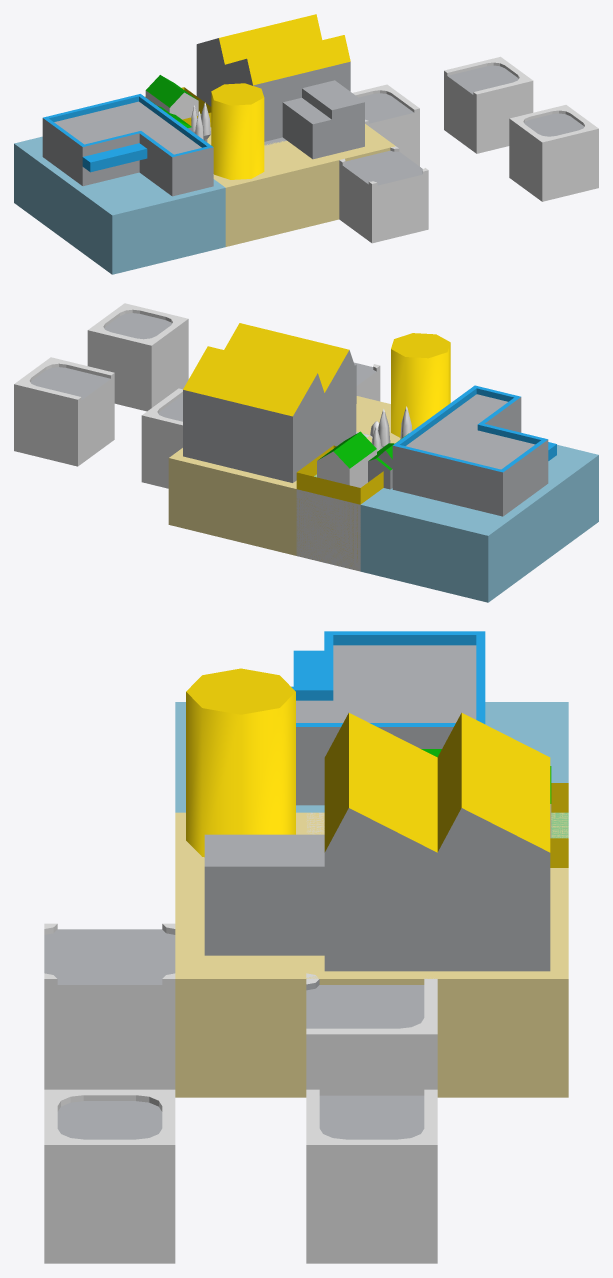
File: assets.glb
3 views of the same model, one above another, from view 1: azimuth 30°, elevation 25°; view 2: azimuth 150°, elevation 25°; view 3: azimuth 270°, elevation 25° (orthographic). The views are drawn at different scales.
Visible parts, largest first — view 1: factory, shop, road-null, road-x, road-end, road-corner, house; view 2: factory, shop, road-end, road-null, house, road-corner, select, road-x, house_main1, tree2; view 3: factory, shop, road-null, road-end, road-x, road-corner, select.
Part boxes in pixels (x1,y1,x2,y2): factory: (196, 14, 395, 246); shop: (14, 94, 225, 274); road-null: (509, 105, 598, 201); road-x: (339, 146, 428, 243); road-end: (444, 56, 533, 153); road-corner: (352, 84, 419, 166); house: (145, 75, 201, 119); factory: (168, 323, 450, 570); shop: (360, 385, 598, 602); road-end: (14, 357, 114, 466); road-null: (87, 303, 188, 411); house: (296, 431, 376, 571); road-corner: (141, 388, 182, 488); select: (296, 445, 383, 504); road-x: (354, 362, 380, 401); house_main1: (368, 443, 394, 489); tree2: (370, 406, 412, 451); factory: (175, 668, 568, 1097); shop: (175, 631, 568, 812); road-null: (44, 1089, 175, 1263); road-end: (306, 1089, 437, 1263); road-x: (44, 923, 175, 1089); road-corner: (306, 979, 437, 1095); select: (550, 783, 568, 867).
Size of the model in its own units: 8 by 2.38 by 4.
1 material, 1 textured.
